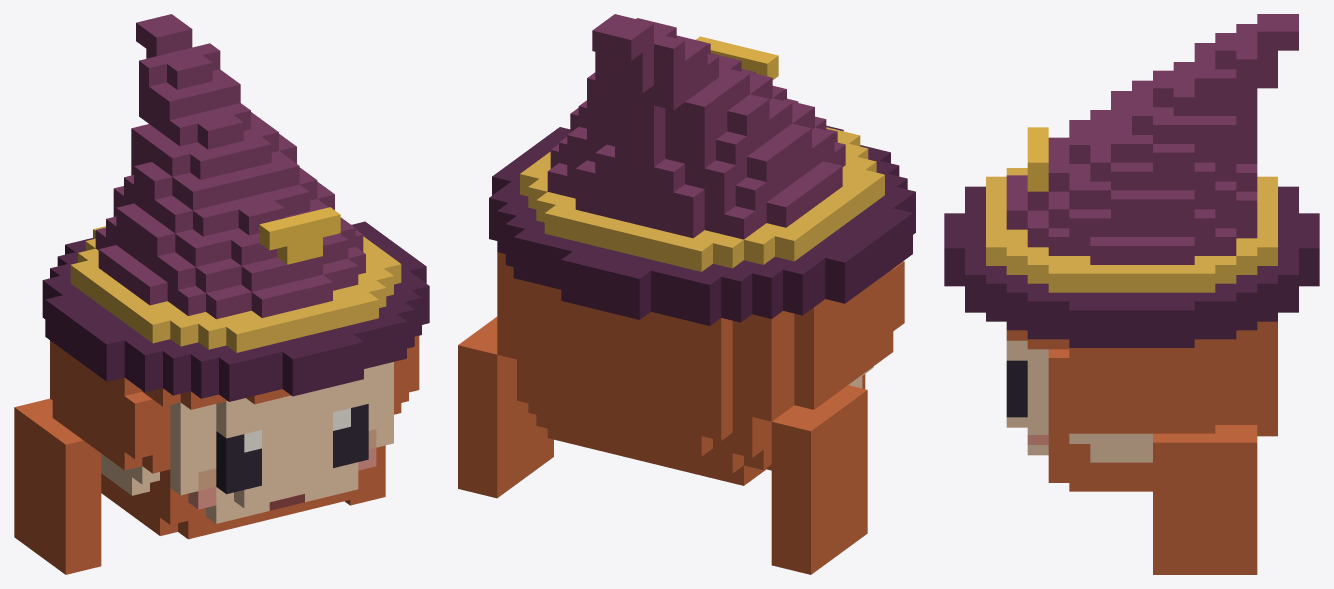
Rendered from wizard__head.glb.
3 renders of one model, left to right at view 1: azimuth 30°, elevation 25°; view 2: azimuth 150°, elevation 25°; view 3: azimuth 270°, elevation 25°, orthographic. The views are drawn at different scales.
Visible parts, largest first — view 1: wizard__head; view 2: wizard__head; view 3: wizard__head.
Boxes of the visible parts, x1,y1,x2,y2 form: wizard__head: [14, 14, 429, 574]; wizard__head: [458, 14, 915, 574]; wizard__head: [944, 14, 1319, 574].
Size of the model in its own units: 1.8 by 2.5 by 1.8.
1 material, 1 textured.
